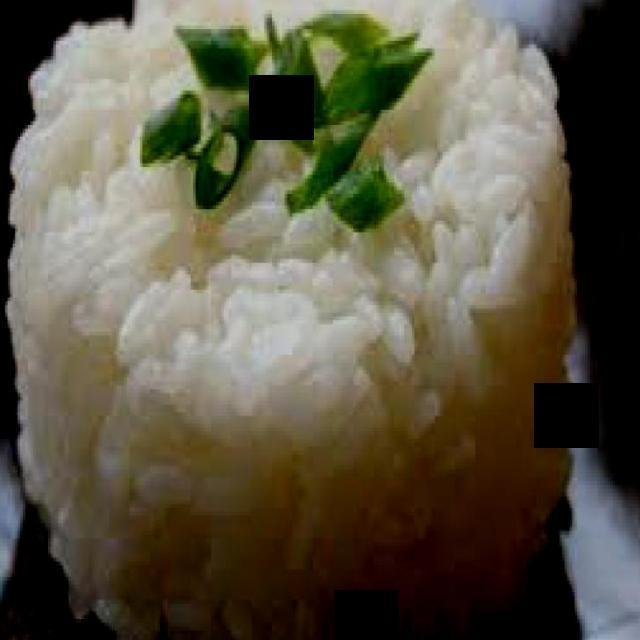rice: (6, 0, 576, 640)
